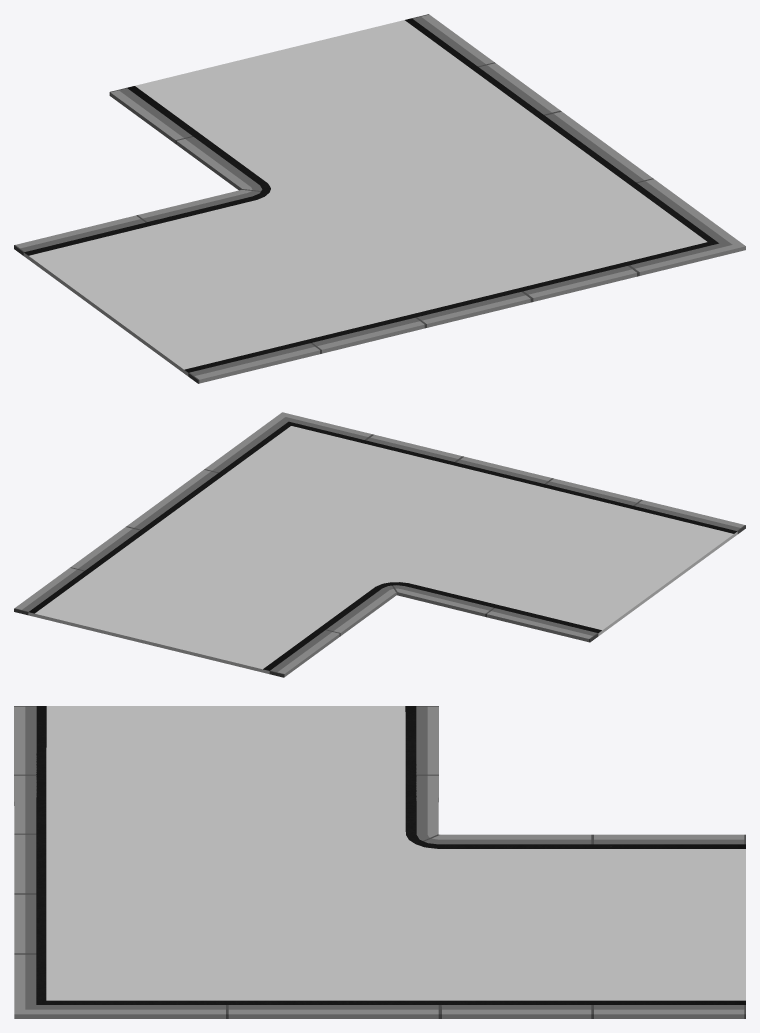
File: Road6.fbx
3 views of the same model, one above another, from view 1: azimuth 30°, elevation 25°; view 2: azimuth 150°, elevation 25°; view 3: azimuth 270°, elevation 25° (orthographic). The views are drawn at different scales.
Parts seen in each view (by area): view 1: Cube.002; view 2: Cube.002; view 3: Cube.002.
Part boxes in pixels (left/top/right/bottom): Cube.002: left=14, top=14, right=745, bottom=383; Cube.002: left=14, top=412, right=745, bottom=677; Cube.002: left=14, top=706, right=745, bottom=1018.
Size of the model in its own units: 741 by 5 by 743.
